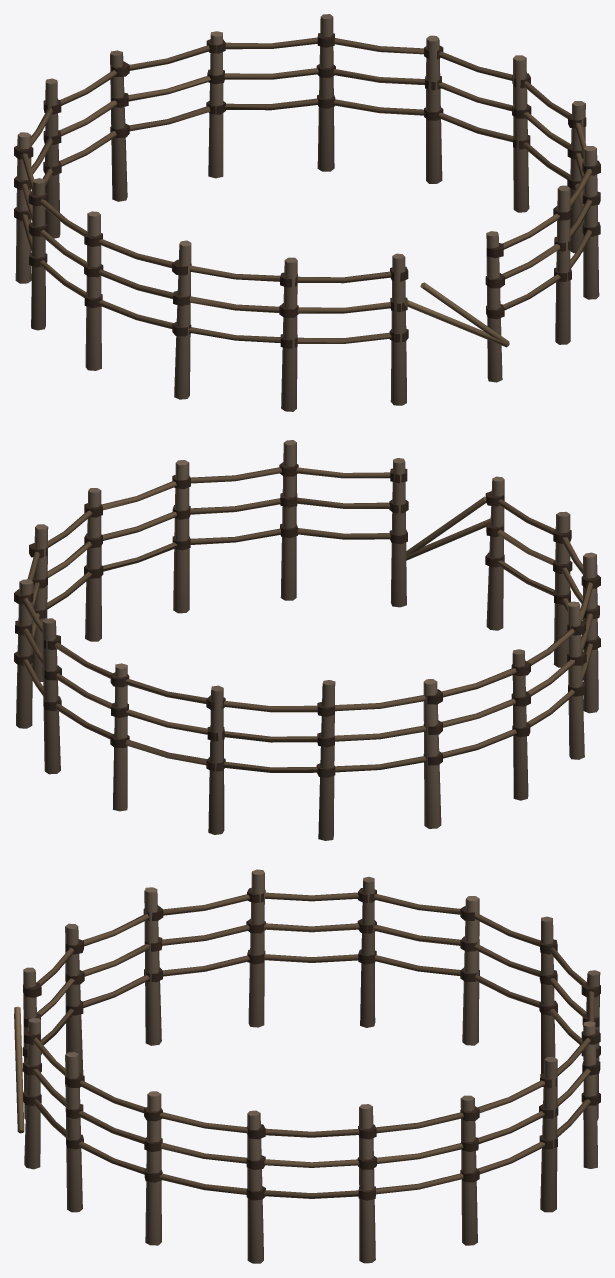
The model's file is corral.glb.
The picture shows the model from 3 angles, top to bottom: view 1: azimuth 30°, elevation 25°; view 2: azimuth 150°, elevation 25°; view 3: azimuth 270°, elevation 25°; orthographic projection.
Visible parts, largest first — view 1: Corral; view 2: Corral; view 3: Corral.
Boxes of the visible parts, <box> form: Corral: <box>14,14,600,411</box>; Corral: <box>14,440,600,840</box>; Corral: <box>14,869,600,1263</box>.
Size of what is drawn, in the model's own units: 7.71 by 2.29 by 7.83.
